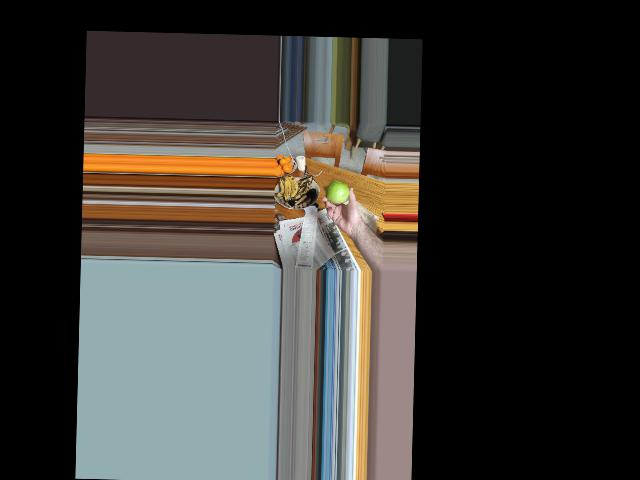apple: (323, 179, 349, 207)
